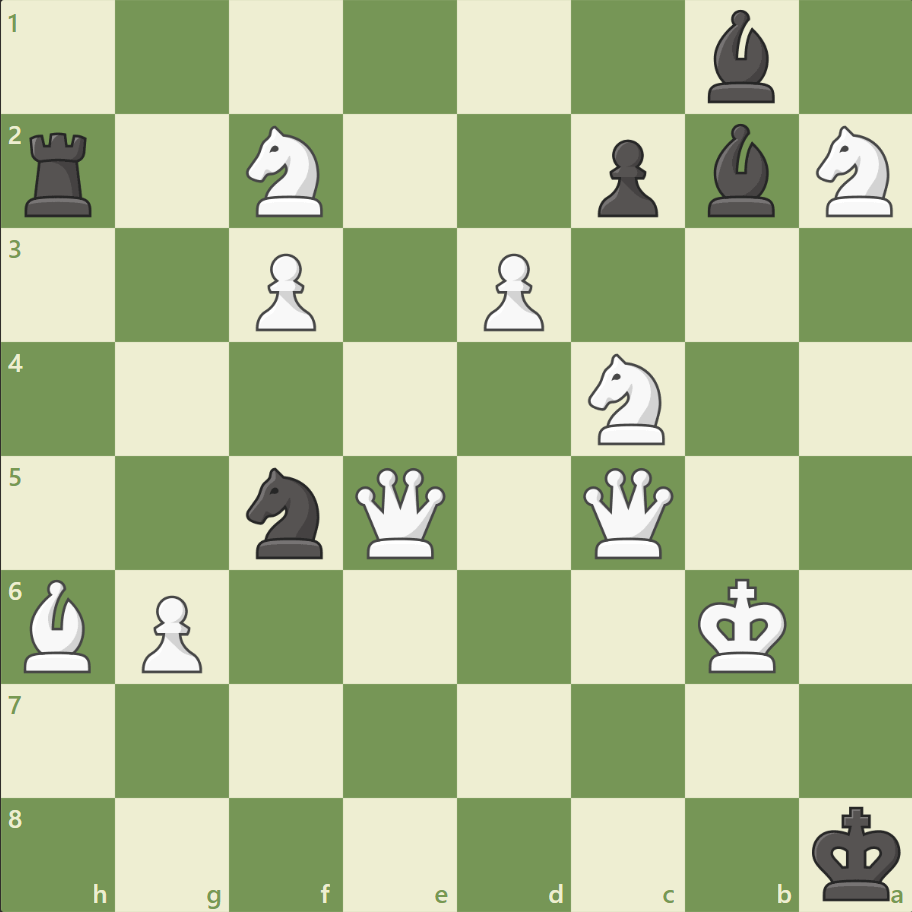B: (17, 574, 101, 676)
K: (692, 571, 792, 679)
N: (579, 348, 676, 450), (806, 121, 903, 223), (238, 121, 335, 223)
P: (133, 586, 208, 677), (474, 246, 549, 337), (247, 246, 322, 337)
Q: (578, 463, 677, 562), (351, 463, 450, 562)
b: (698, 6, 782, 109), (698, 120, 782, 222)
k: (806, 798, 906, 906)
n: (238, 461, 335, 564)
p: (588, 132, 662, 223)
r: (19, 125, 102, 222)
